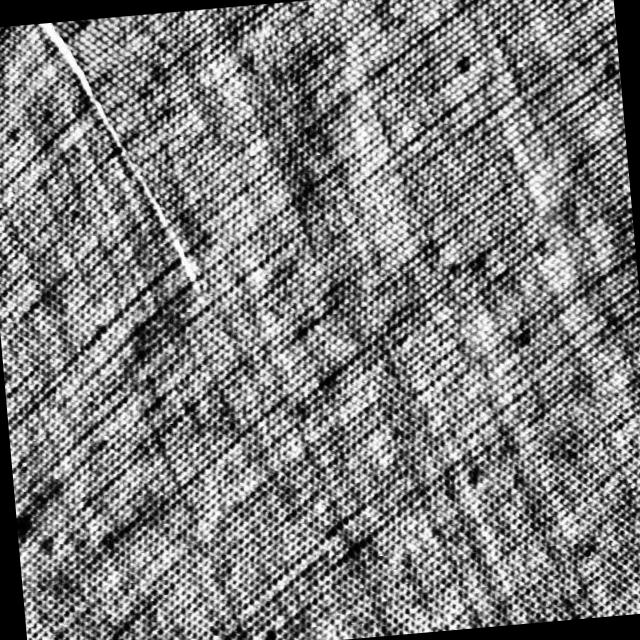cut: (32, 11, 212, 333)
